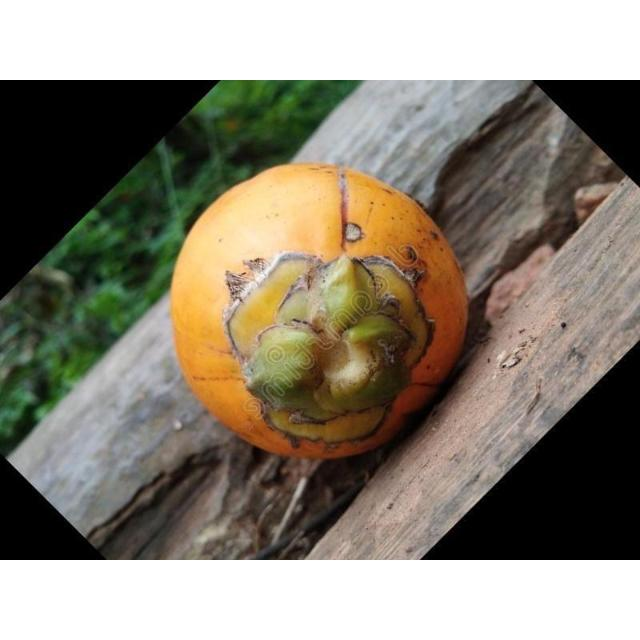good: (170, 163, 470, 459)
